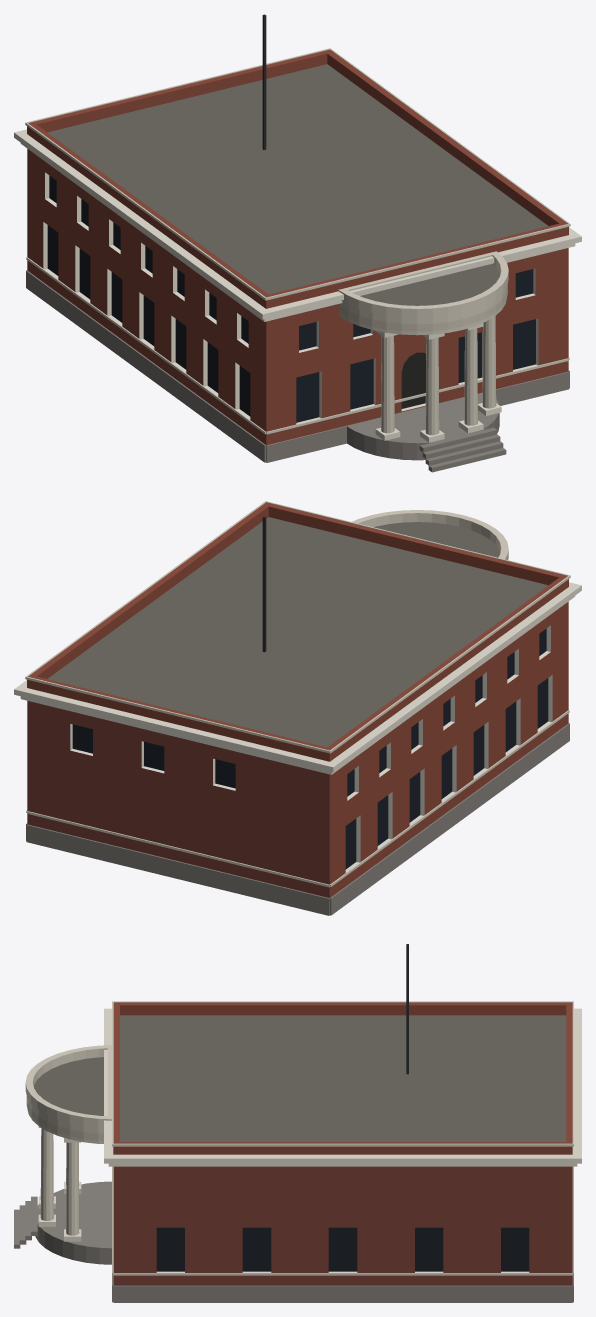
File: north-little-rock-post-office.glb
The picture shows the model from 3 angles, top to bottom: view 1: azimuth 30°, elevation 25°; view 2: azimuth 150°, elevation 25°; view 3: azimuth 270°, elevation 25°; orthographic projection. The views are drawn at different scales.
Visible parts, largest first — view 1: north_roof, north_brick, north_stone, north_base, north_glass, north_trim, north_sash, north_trim2, north_dark, north_iron; view 2: north_roof, north_brick, north_brick2, north_base, north_trim, north_stone, north_glass, north_sash, north_iron; view 3: north_roof, north_brick2, north_base, north_brick, north_stone, north_trim, north_glass, north_trim2.
Boxes of the visible parts, x1,y1,x2,y2 form: north_roof: (47, 64, 548, 305); north_brick: (27, 49, 568, 445); north_stone: (25, 48, 570, 435); north_base: (26, 270, 569, 472); north_glass: (47, 175, 535, 422); north_trim: (14, 129, 581, 442); north_sash: (43, 172, 538, 424); north_trim2: (339, 285, 507, 331); north_dark: (401, 352, 425, 408); north_iron: (262, 14, 266, 149); north_roof: (48, 517, 548, 747); north_brick: (27, 502, 568, 897); north_brick2: (27, 701, 329, 897); north_base: (26, 723, 569, 915); north_trim: (14, 582, 581, 774); north_stone: (25, 501, 570, 887); north_glass: (72, 628, 548, 869); north_sash: (70, 625, 552, 872); north_iron: (262, 516, 266, 652); north_roof: (33, 1015, 566, 1141); north_brick2: (113, 1166, 572, 1285); north_base: (14, 1167, 573, 1302); north_brick: (113, 1002, 572, 1154); north_stone: (25, 1001, 573, 1275); north_trim: (38, 1008, 581, 1241); north_glass: (156, 1227, 529, 1271); north_trim2: (26, 1096, 103, 1140).
Bounding box in the file's own units: 22.4 × 20 × 35.89.
